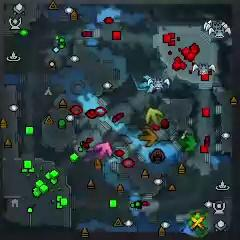Other: (190, 214, 208, 234)
p1: (182, 224, 198, 237)
x1: (95, 141, 112, 159)
x2: (145, 108, 164, 126)
x3: (139, 75, 153, 93)
x4: (179, 134, 198, 152)
x5: (139, 127, 158, 147)
